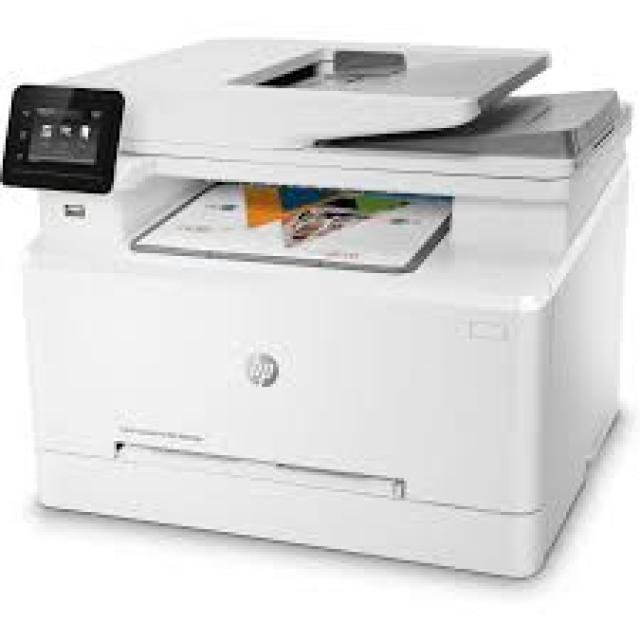printer: (0, 34, 631, 580)
